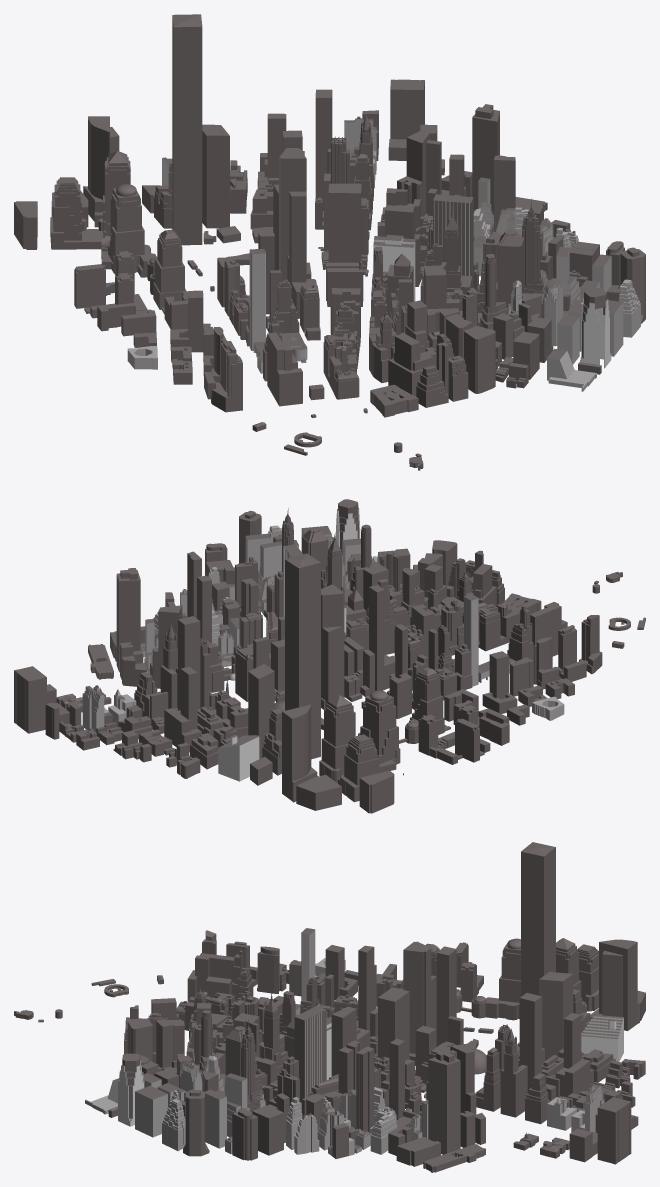
File: city.glb
3 views of the same model, one above another, from view 1: azimuth 30°, elevation 25°; view 2: azimuth 150°, elevation 25°; view 3: azimuth 270°, elevation 25° (orthographic). The views are drawn at different scales.
Parts seen in each view (by area): view 1: map(2).osm_buildings (×3); view 2: map(2).osm_buildings (×3); view 3: map(2).osm_buildings (×3).
Part boxes in pixels (box(x1,y1,x2,y2)): map(2).osm_buildings (×3): box(14, 14, 645, 470); map(2).osm_buildings (×3): box(14, 499, 645, 813); map(2).osm_buildings (×3): box(14, 842, 645, 1172).
Bounding box in the file's own units: 36.38 × 16.1 × 47.39.
3 materials, 3 textured.
